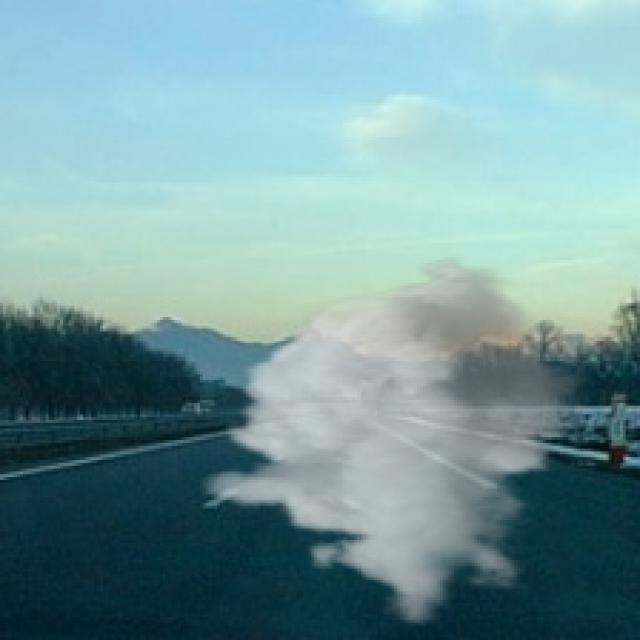smoke: (200, 254, 597, 626)
